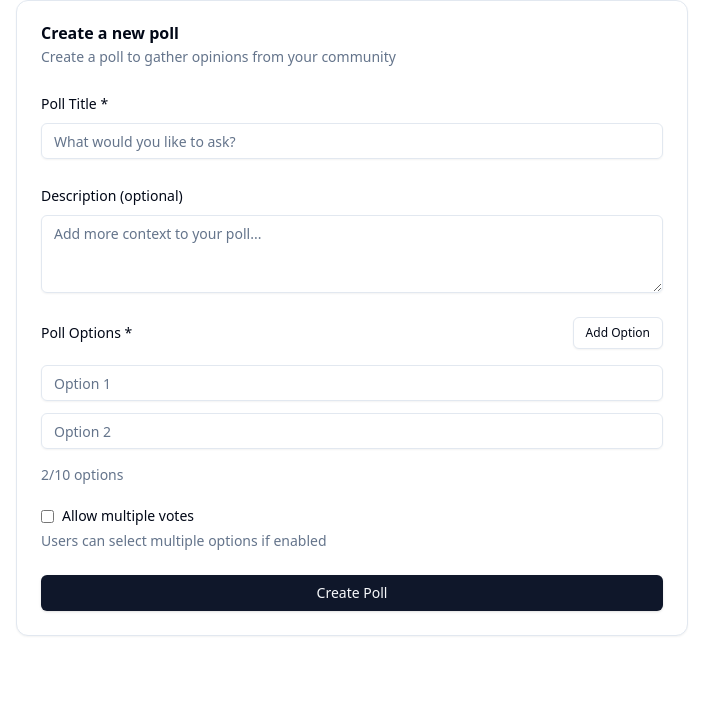
Test: CreatePollForm › Form Validation › shows error when there are fewer than 2 options
The image size is (705, 701).
Fill in title
Type "Test Poll" into the field labelled "Poll Title *" at (352, 141), box [41, 123, 663, 159]
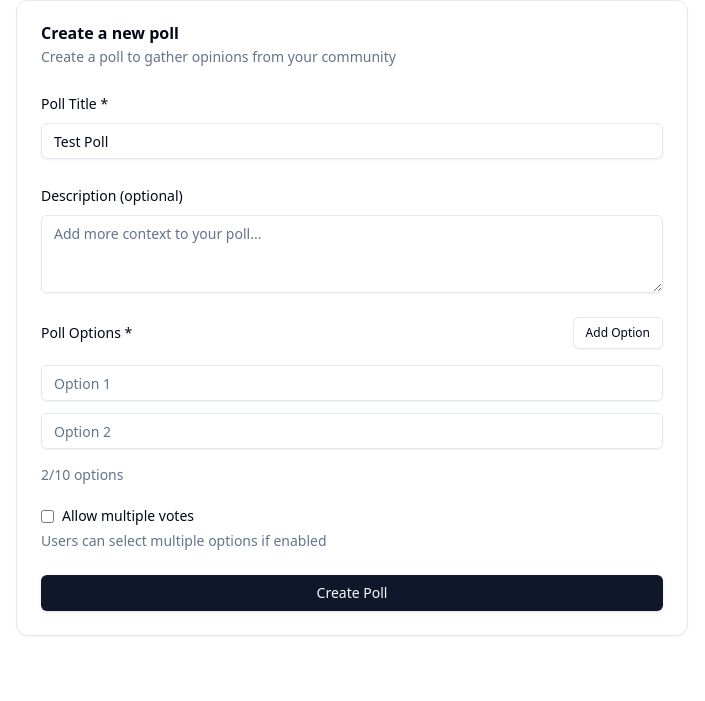
Add an option first to get remove buttons
Click the button "Add Option" at (618, 333), box [573, 317, 663, 349]
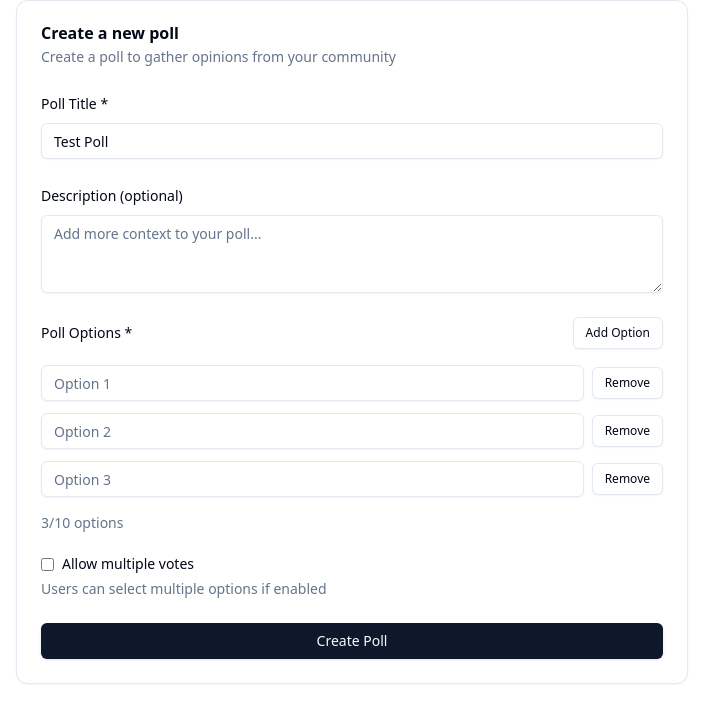
Now remove one option (should leave only 2)
Click the 1st button "Remove" at (627, 383), box [592, 367, 663, 399]
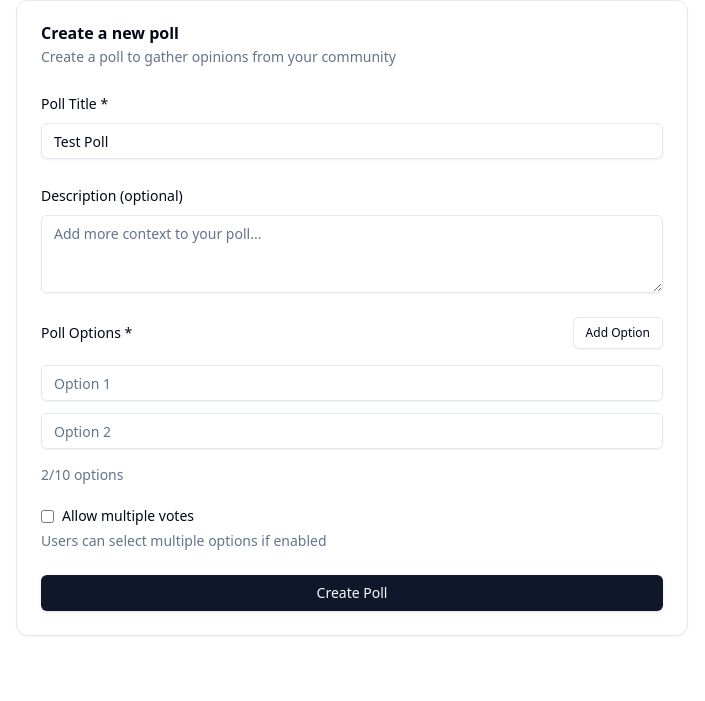
Submit the form
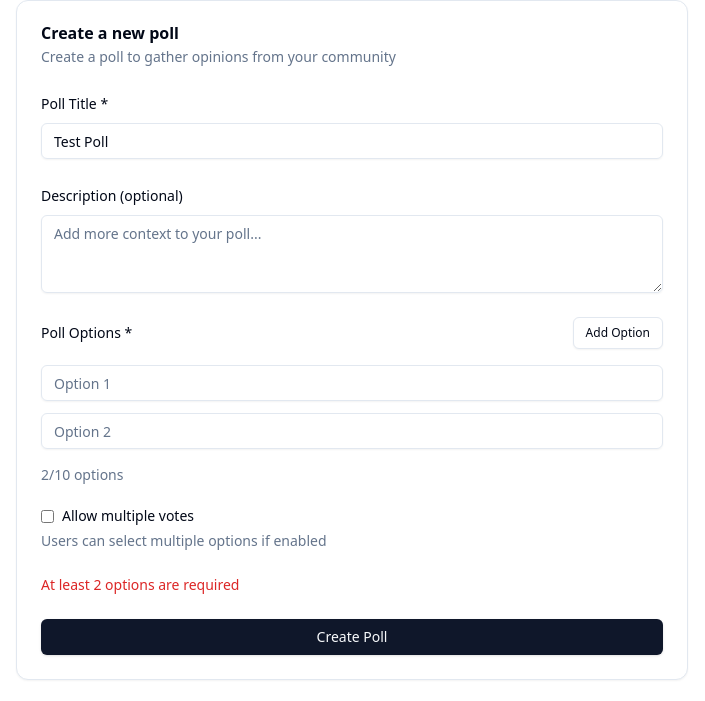
Expected: the text "At least 2 options are required" is shown, [41, 575, 239, 594]
